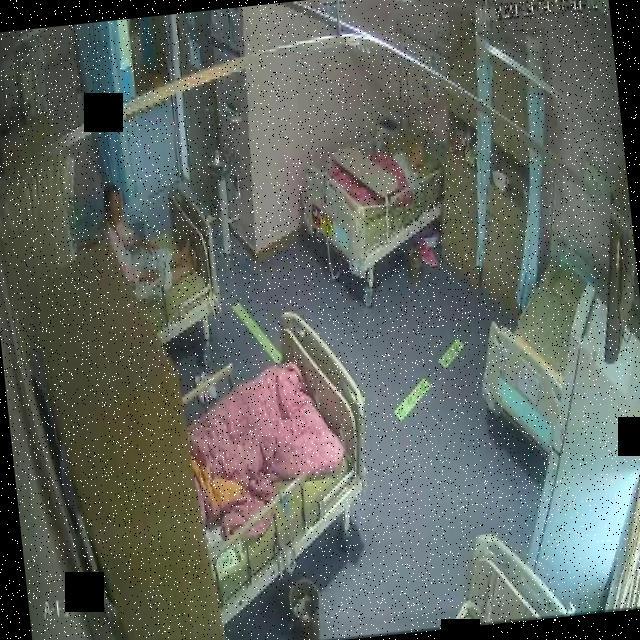bed: (174, 306, 382, 588), (282, 102, 454, 306), (467, 250, 606, 464), (110, 179, 226, 348)
patient: (94, 180, 202, 306), (384, 144, 434, 194)
sit: (94, 183, 200, 301)
